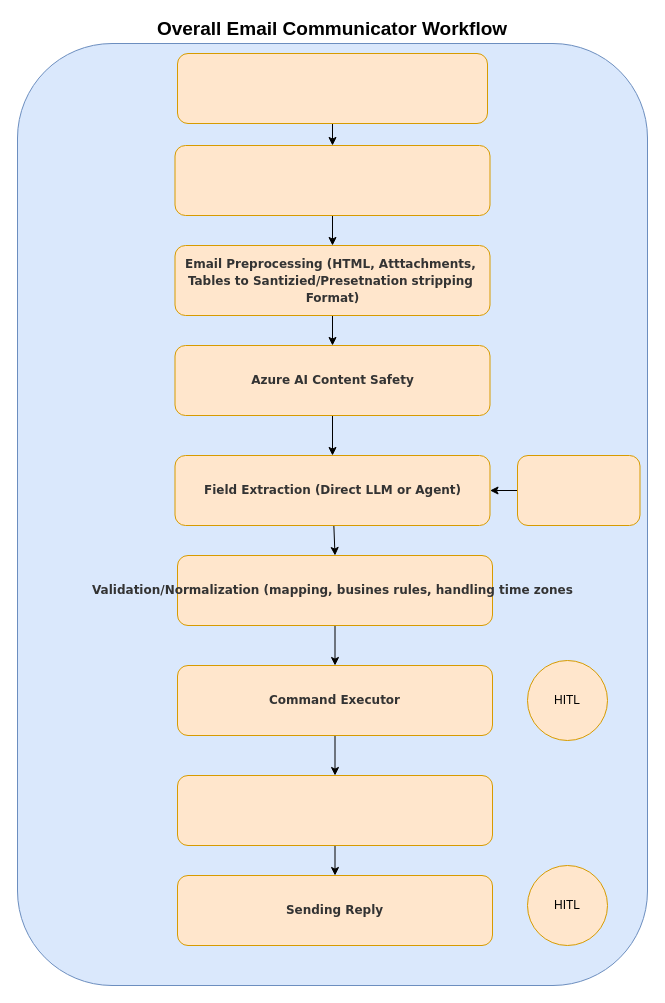
The diagram is 665 pixels wide and 1003 high, and some of its shapes have lost their labels. The box of each missing label's shape, as (x1, y1, x2, y2) in pixels:
Arriving Email: (176, 52, 488, 124)
Email Drafting Agent: (176, 774, 492, 846)
Email Validation (Spam/Vendor Validation): (174, 144, 490, 216)
Field Definitions: (516, 454, 640, 526)
